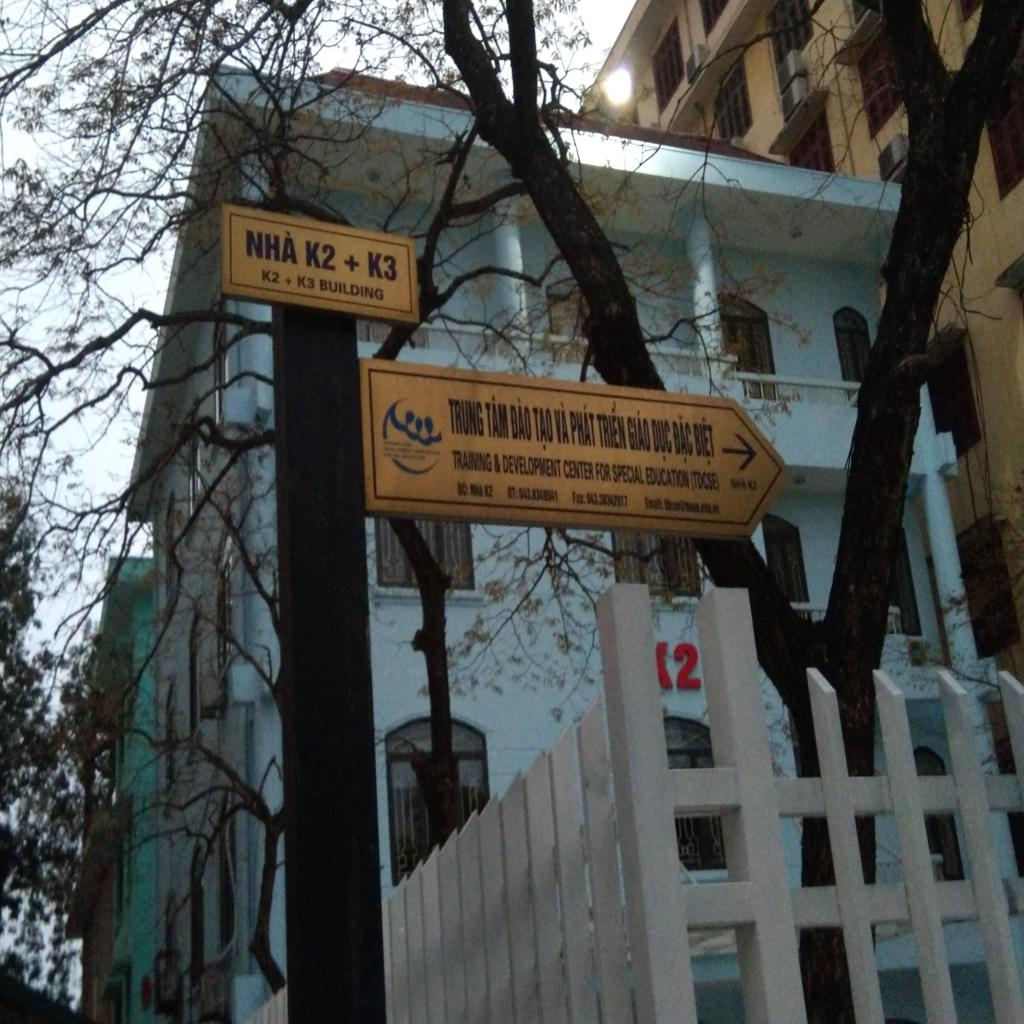text: (245, 224, 299, 265), (319, 277, 386, 302), (596, 398, 628, 449), (448, 395, 486, 437), (502, 452, 562, 478), (692, 416, 717, 466), (483, 394, 510, 440), (304, 237, 338, 273), (570, 404, 598, 447), (670, 414, 694, 464), (626, 408, 652, 453), (645, 464, 690, 488), (450, 449, 493, 474), (366, 250, 398, 283), (508, 397, 532, 441), (652, 416, 674, 462), (532, 406, 554, 451), (552, 399, 570, 445), (611, 462, 645, 484), (519, 485, 560, 503), (586, 491, 628, 508), (563, 458, 595, 480), (690, 468, 719, 492), (344, 250, 360, 275), (595, 460, 612, 482), (261, 266, 280, 284), (644, 495, 664, 511), (297, 274, 315, 290), (492, 451, 502, 473), (730, 477, 748, 489), (470, 481, 484, 496), (572, 489, 586, 504), (457, 481, 469, 497), (483, 484, 494, 498), (507, 485, 518, 499), (283, 276, 294, 287), (748, 478, 758, 490)
